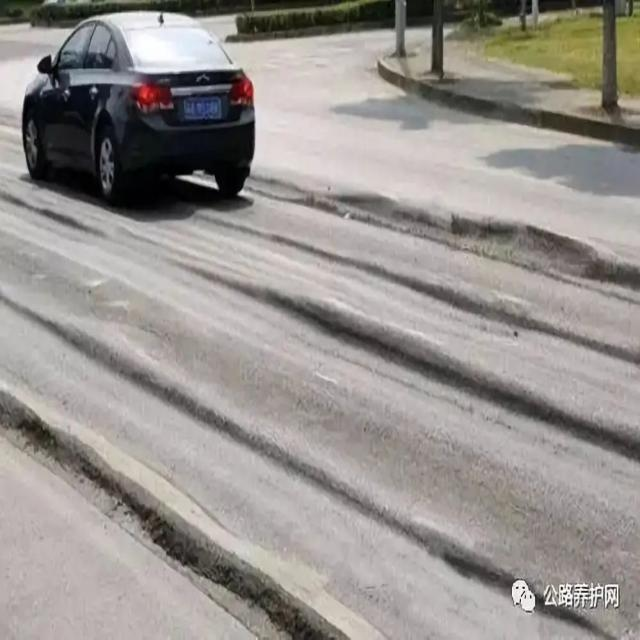Pothole: (14, 416, 332, 639), (263, 286, 639, 472), (256, 224, 640, 368), (292, 178, 640, 304), (396, 526, 640, 639)
